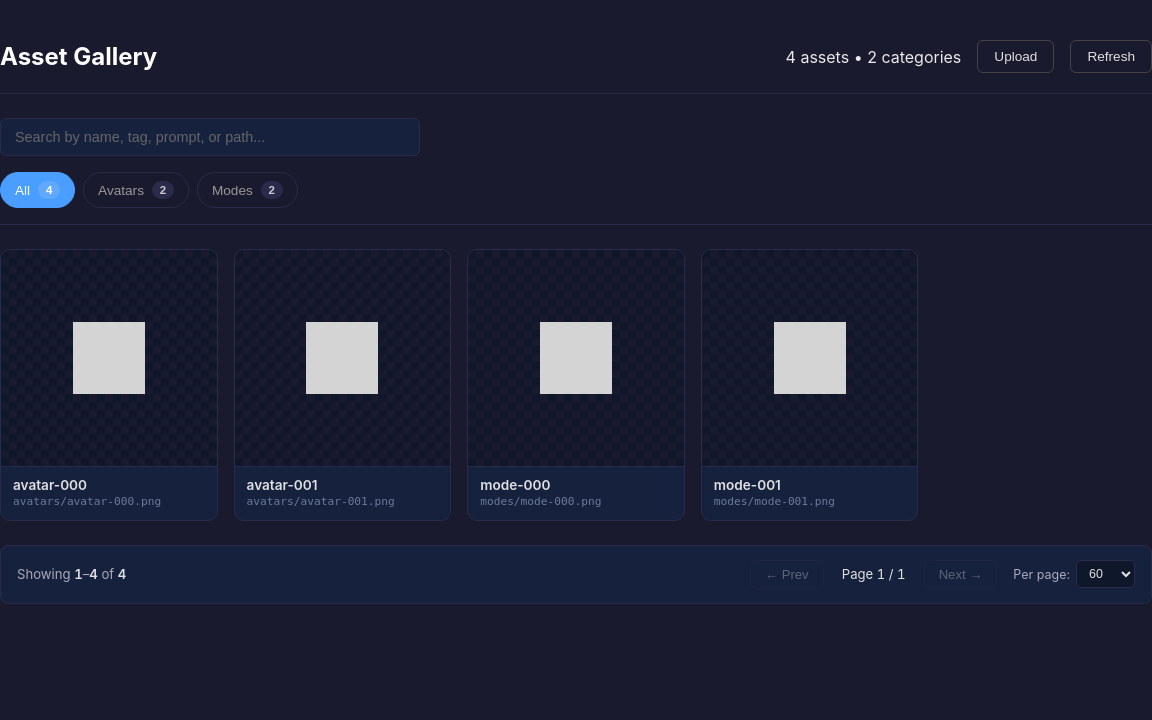
Test: AdminAssetGalleryPage — upload modal › opens the upload modal when the header Upload button is clicked
This screenshot has width=1152, height=720.
Expected: the element with test id "admin-gallery-grid" is shown, [0,249,918,521]
Click the button with test id "admin-gallery-upload-open" at point(1016, 56), box [977,40,1054,73]
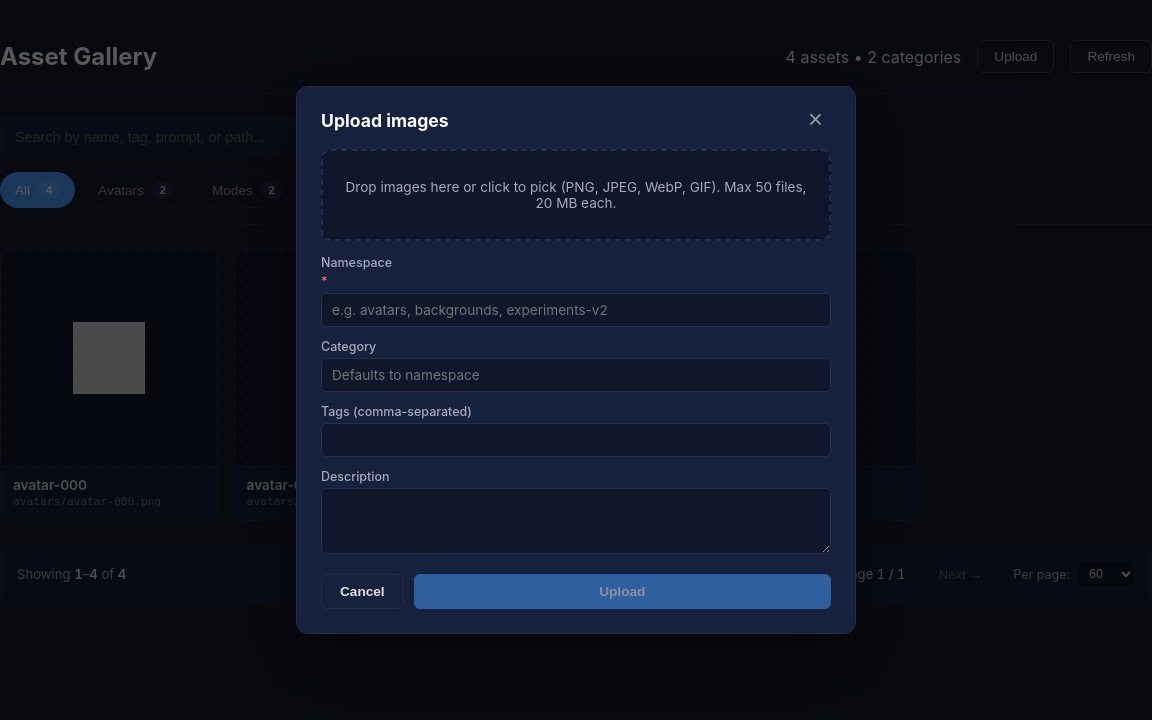
Expected: the element with test id "admin-gallery-upload-modal" is shown
